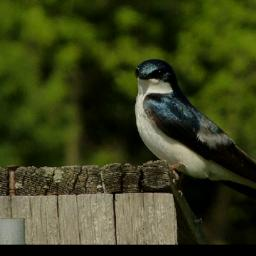Swallow: (131, 58, 256, 213)
